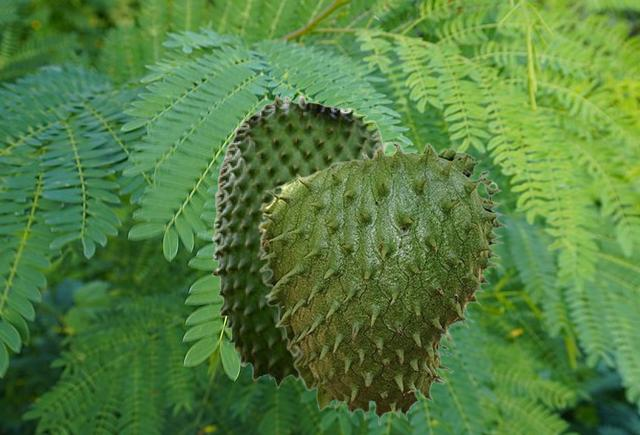guyabano: (258, 140, 507, 425), (211, 94, 383, 387)
